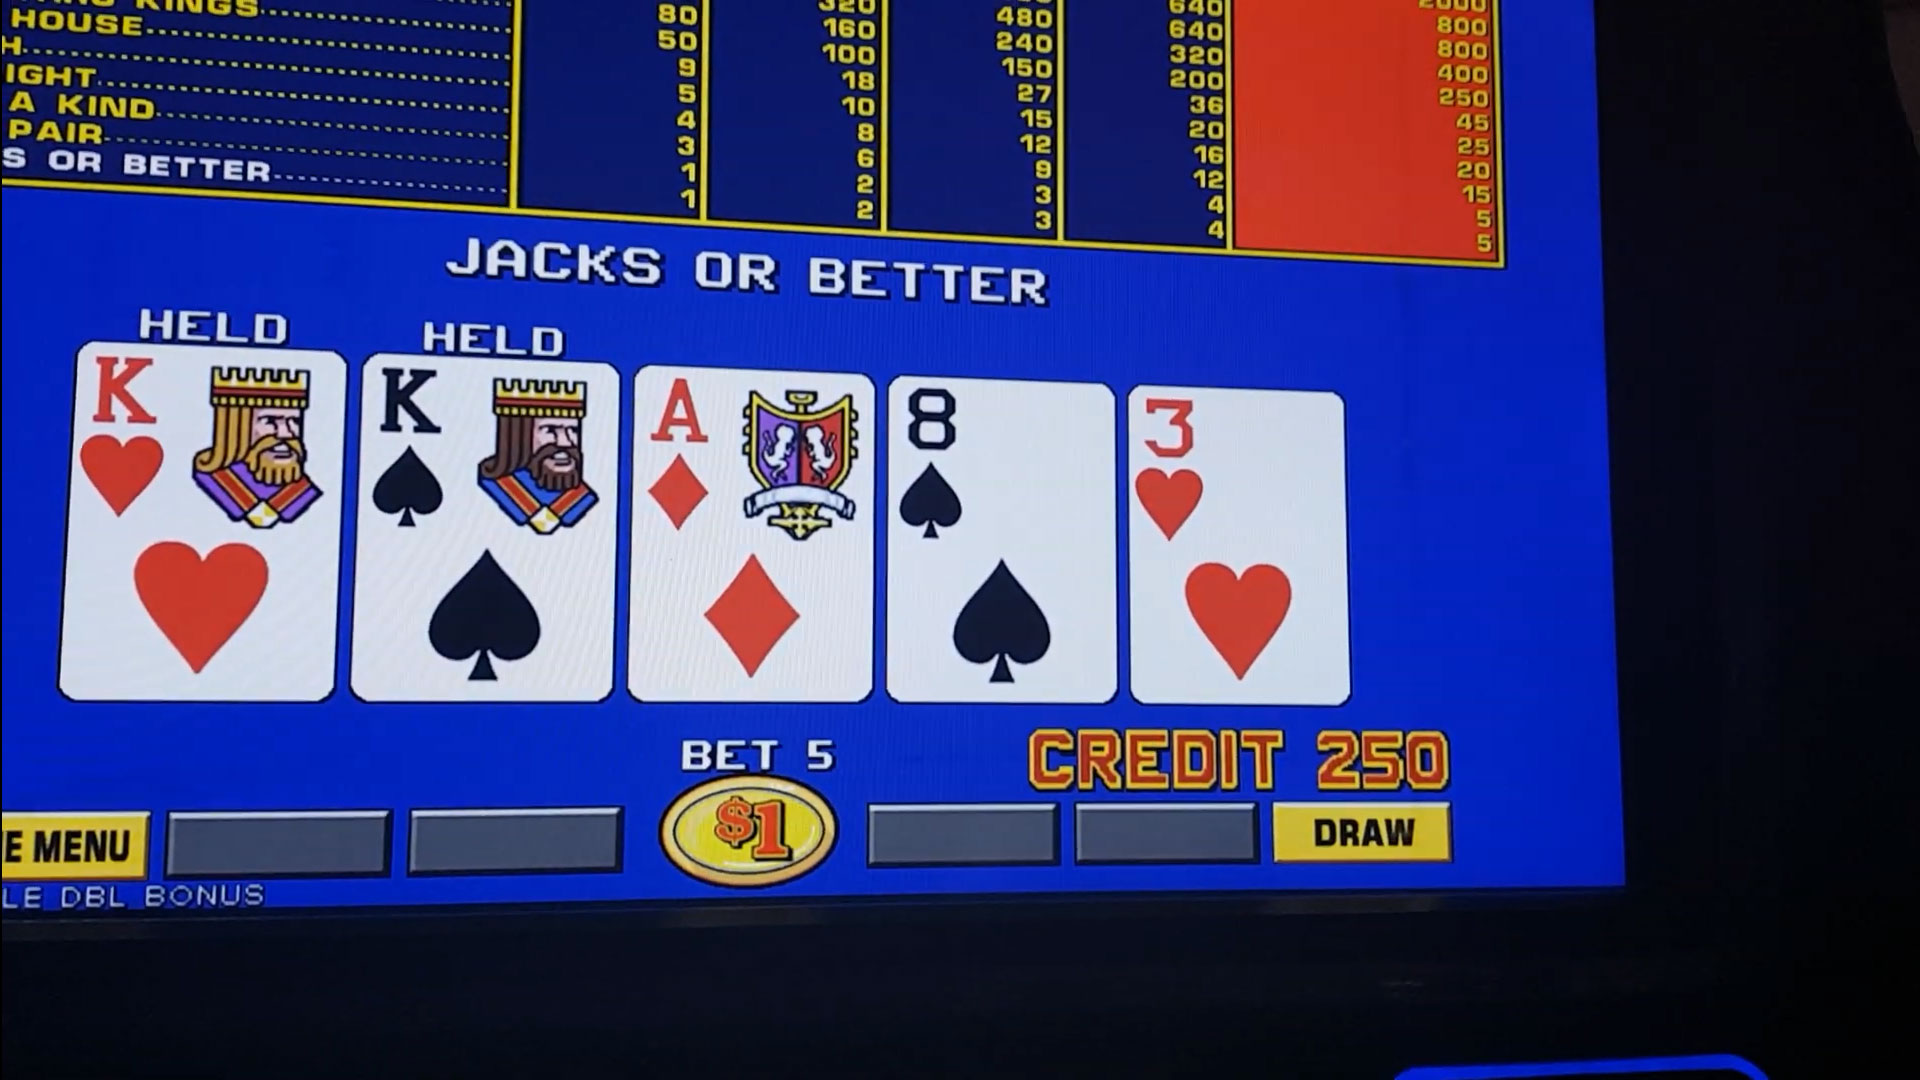DA: (636, 371, 872, 542)
H3: (1134, 396, 1341, 551)
HK: (84, 357, 339, 530)
S8: (895, 385, 1110, 550)
SK: (365, 369, 624, 541)
